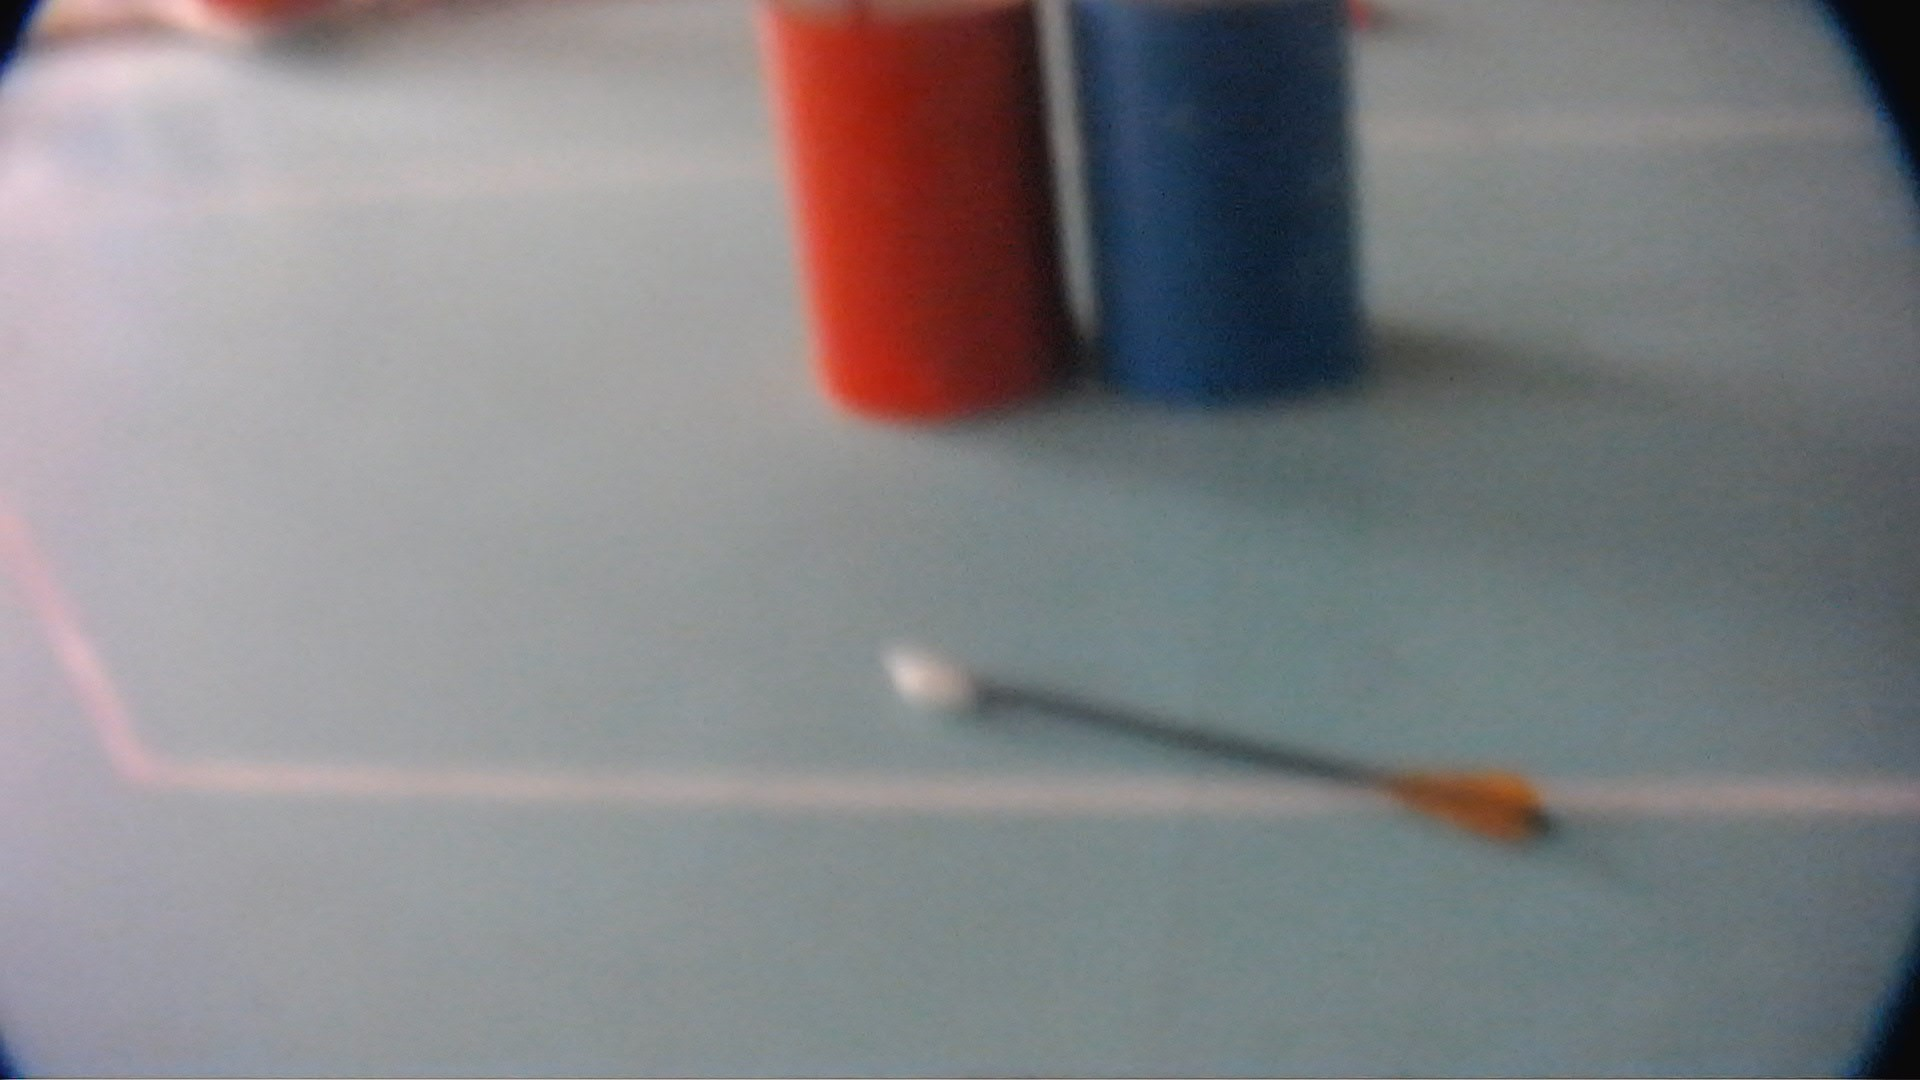arrow: (882, 646, 1561, 847)
arrowFront: (885, 646, 985, 715)
